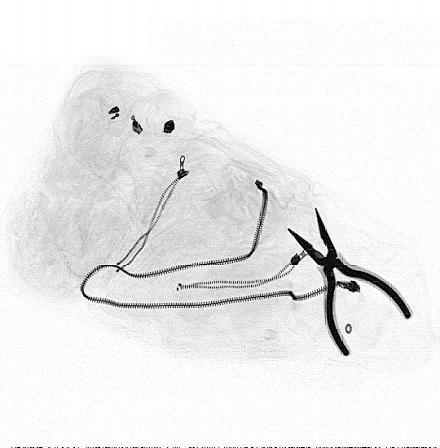Pliers: (285, 207, 414, 358)
